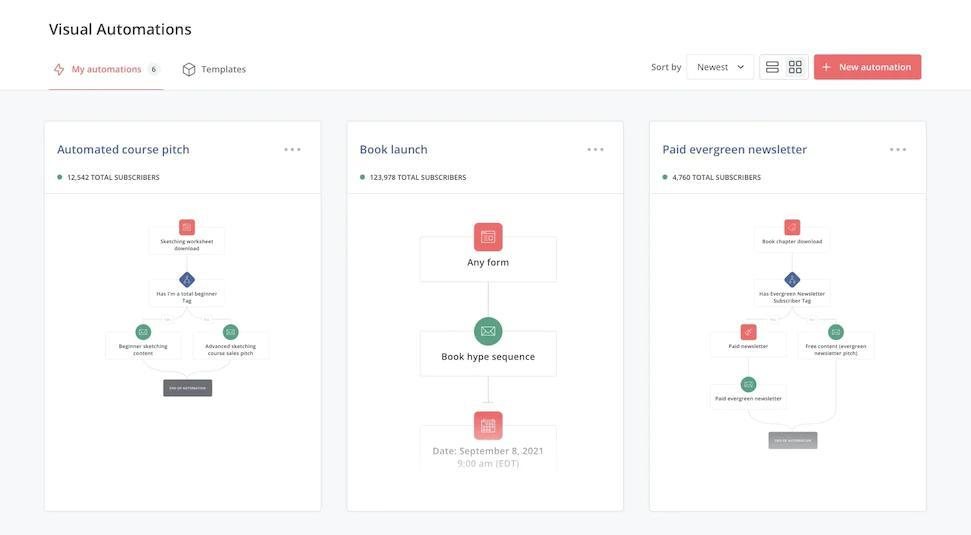button: (813, 56, 925, 82)
dropdown: (688, 54, 755, 83)
icon: (761, 54, 785, 81), (786, 55, 808, 81), (279, 141, 310, 158), (584, 140, 610, 158), (178, 58, 199, 80), (884, 143, 914, 157), (51, 62, 70, 80)
